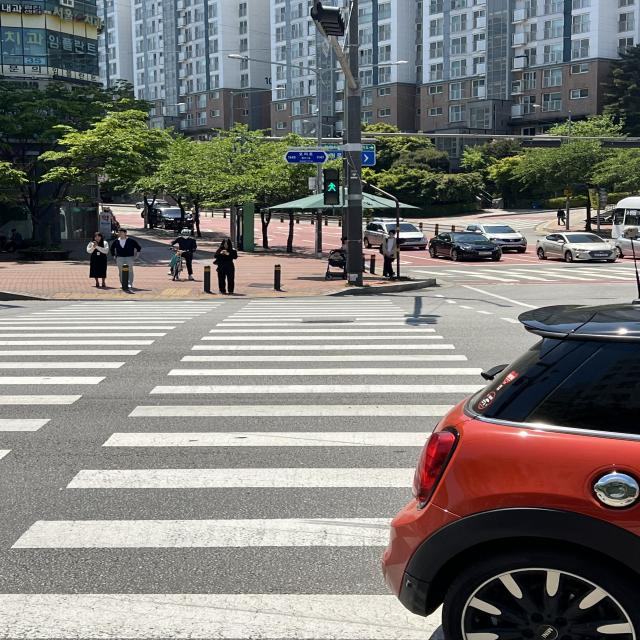crosswalk: (1, 286, 640, 640)
green-light: (322, 171, 349, 207)
